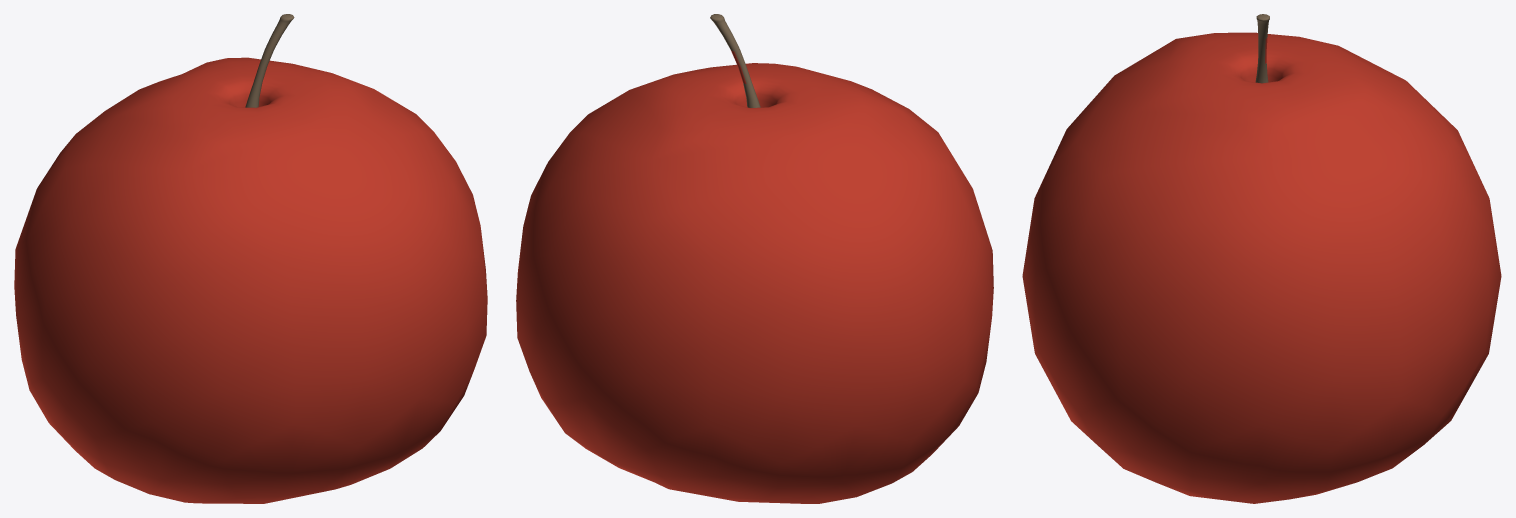
The model's file is food_apple_250326.fbx.
The picture shows the model from 3 angles, left to right: view 1: azimuth 30°, elevation 25°; view 2: azimuth 150°, elevation 25°; view 3: azimuth 270°, elevation 25°; orthographic projection. The views are drawn at different scales.
Visible parts, largest first — view 1: food_apple; view 2: food_apple; view 3: food_apple.
Part boxes in pixels (x1,y1,x2,y2): food_apple: (14,14,487,503); food_apple: (516,14,993,503); food_apple: (1022,14,1501,503).
Size of the model in its own units: 31.61 by 32.41 by 30.
